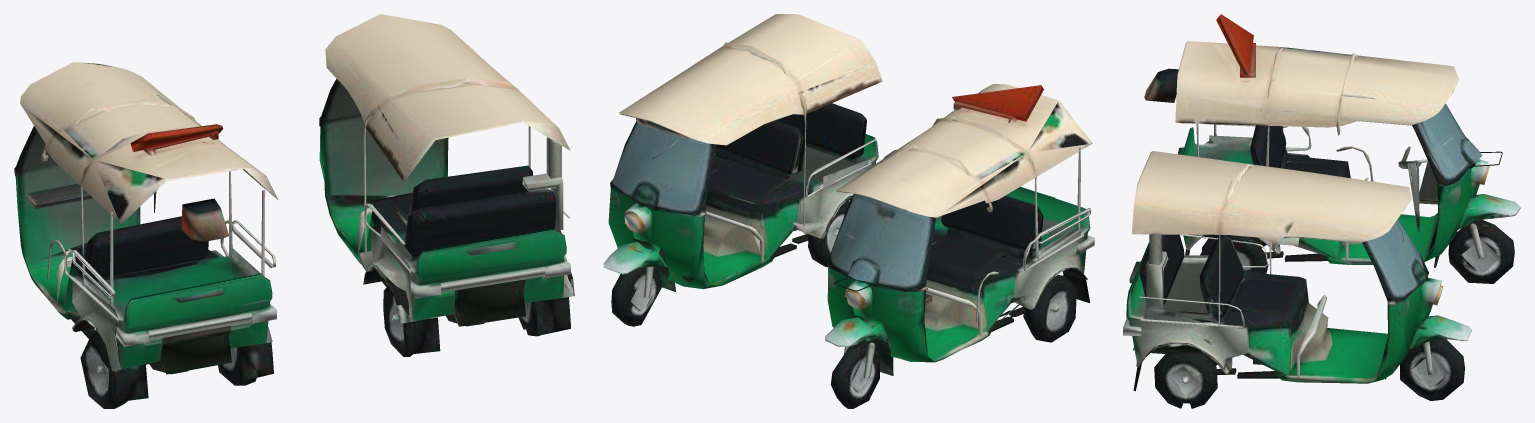
The model's file is city_tuktuk.glb.
3 views of the same model, side by side, from view 1: azimuth 30°, elevation 25°; view 2: azimuth 150°, elevation 25°; view 3: azimuth 270°, elevation 25° (orthographic). The views are drawn at different scales.
Visible parts, largest first — view 1: Body; view 2: Body; view 3: Body.
Boxes of the visible parts, x1,y1,x2,y2 form: Body: (14, 14, 574, 408); Body: (603, 14, 1094, 408); Body: (1123, 14, 1520, 408).
Bounding box in the file's own units: 2.6 × 1.53 × 2.3.
1 material, 1 textured.
